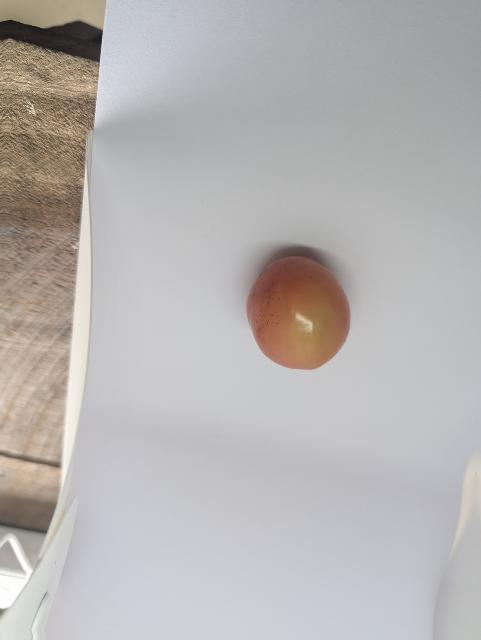turning: (243, 250, 357, 373)
